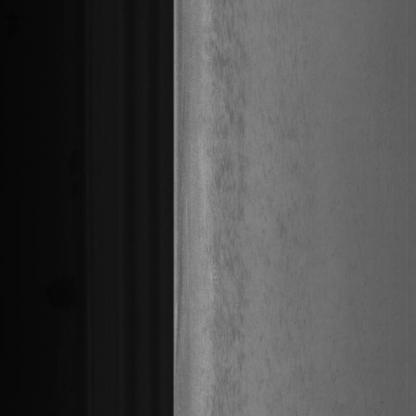silk_spot: (212, 23, 253, 374)
